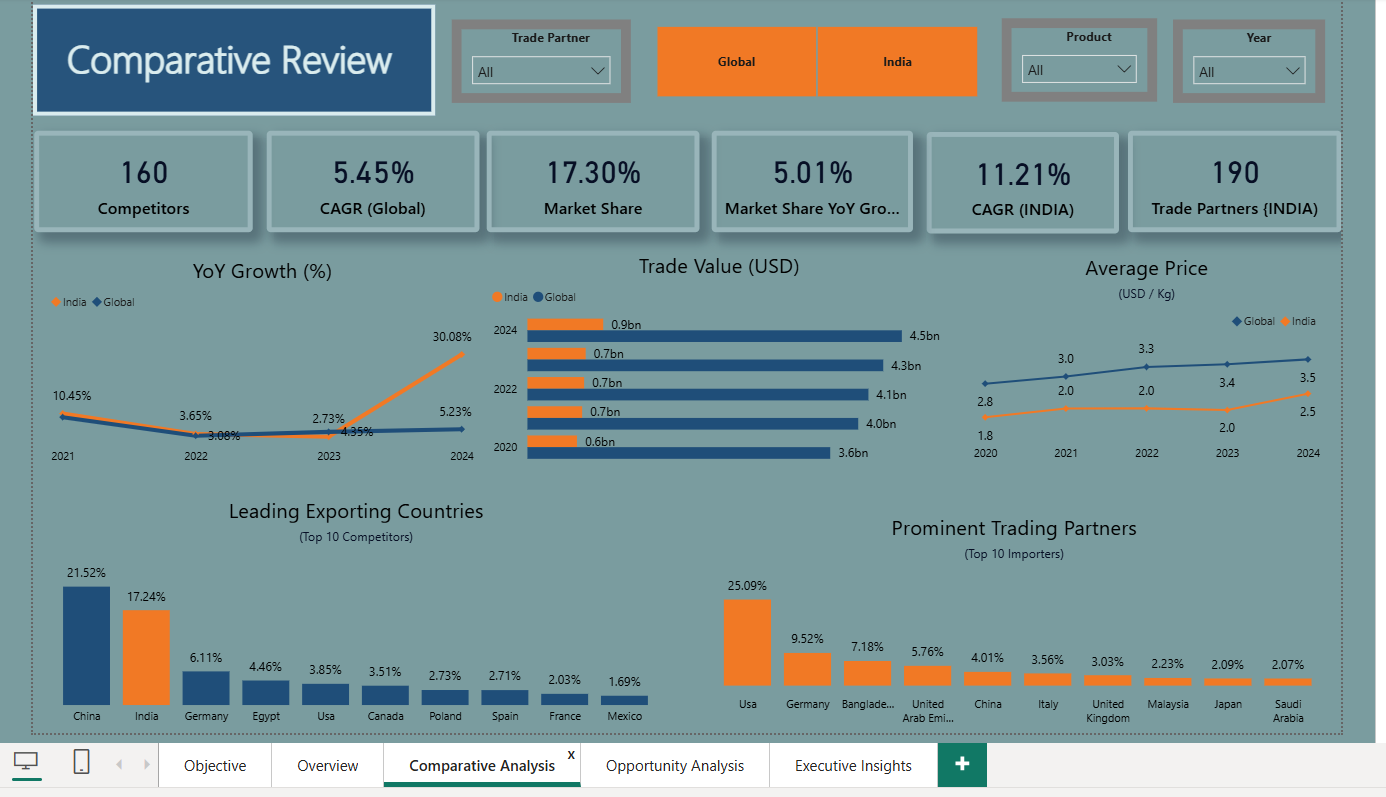

What the dashboard file says about the page in this screenshot:
{"tool":"powerbi","page":{"name":"Comparative Analysis","canvas":[1280,720],"ordinal":2},"visuals":[{"type":"textbox","box":[0,7.3,393.8,108.8],"z":0},{"type":"slicer","title":"Product","fields":{"Values":["Trade_Master_PowerBI.product_name"]},"box":[947.7,20.8,151.6,81.9],"z":1000},{"type":"slicer","title":"Origin","fields":{"Values":["Trade_Master_PowerBI.origin"]},"box":[584.5,22,363.2,81.9],"z":2000},{"type":"slicer","title":"Year","fields":{"Values":["calendar.Year"]},"box":[1115.2,22,149.2,81.9],"z":3000},{"type":"card","title":"Total Global Net Value (Usd)","fields":{"Values":["Count(Trade_Master_PowerBI.reporter_country)"]},"box":[1.2,130.8,214,99],"z":4000},{"type":"card","title":"Total Global Net weight (kg)","fields":{"Values":["DAX - Potential_Market.CAGR_Global"]},"box":[228.7,130.8,207.9,99],"z":5000},{"type":"card","title":"Average Price (Usd/kg)","fields":{"Values":["dax_measures.market_share"]},"box":[443.9,130.8,207.9,99],"z":6000},{"type":"card","title":"Total Indian Net Value (Usd)","fields":{"Values":["DAX - Potential_Market.CAGR_India"]},"box":[874.3,132.1,188.3,99],"z":7000},{"type":"card","title":"Total Indian Net weight (kg)","fields":{"Values":["Count(Trade_Master_PowerBI.partner_country)"]},"box":[1071.2,130.8,209.1,99],"z":8000},{"type":"card","title":"Average Price (Usd/kg)","fields":{"Values":["DAX - Potential_Market.MarSh_YoY Growth (%)"]},"box":[664,130.8,196.9,99],"z":9000},{"type":"columnChart","title":"Leading Exporting Countries","fields":{"Category":["Trade_Master_PowerBI.reporter_country"],"Y":["dax_measures.Contribution %"]},"box":[1.2,487.9,629.8,232.3],"z":10000},{"type":"lineChart","title":"YoY Growth (%) ","fields":{"Category":["calendar.Year"],"Y":["dax_measures.YoY Growth_ind (%)","dax_measures.YoY Growth (%)"]},"box":[12.2,253.1,424.3,212.8],"z":11000},{"type":"clusteredBarChart","title":"Trade Value (USD)","fields":{"Category":["calendar.Year"],"Y":["dax_measures.Indian_tradevalue(usd)","dax_measures.global_tradevalue(usd)"]},"box":[443.9,248.2,454.9,215.2],"z":12000},{"type":"lineChart","title":"Average Price  ","fields":{"Category":["calendar.Year"],"Y":["DAX - Potential_Market.Global_AvgPrice","DAX - Potential_Market.Ind_AvgPrice"]},"box":[914.7,250.7,349.7,212.8],"z":13000},{"type":"columnChart","title":"Prominent Trading Partners","fields":{"Y":["dax_measures.Distribution %"],"Category":["Trade_Master_PowerBI.partner_country"]},"box":[639.5,505,640.8,215.2],"z":14000},{"type":"slicer","title":"Trade Partner","fields":{"Values":["Trade_Master_PowerBI.partner_country"]},"box":[409.6,22,174.9,81.9],"z":15000}]}

Visuals, with their boxes on the page's 1280x720 design canvas (x1, y1, x2, y2). These are canvas units, not pixel positions in the 1386x797 screenshot, which may show the page scaled, cropped or inside an application window:
textbox: l=0, t=7, r=394, b=116
"Product" slicer: l=948, t=21, r=1099, b=103
"Origin" slicer: l=584, t=22, r=948, b=104
"Year" slicer: l=1115, t=22, r=1264, b=104
"Total Global Net Value (Usd)" card: l=1, t=131, r=215, b=230
"Total Global Net weight (kg)" card: l=229, t=131, r=437, b=230
"Average Price (Usd/kg)" card: l=444, t=131, r=652, b=230
"Total Indian Net Value (Usd)" card: l=874, t=132, r=1063, b=231
"Total Indian Net weight (kg)" card: l=1071, t=131, r=1280, b=230
"Average Price (Usd/kg)" card: l=664, t=131, r=861, b=230
"Leading Exporting Countries" columnChart: l=1, t=488, r=631, b=720
"YoY Growth (%) " lineChart: l=12, t=253, r=436, b=466
"Trade Value (USD)" clusteredBarChart: l=444, t=248, r=899, b=463
"Average Price  " lineChart: l=915, t=251, r=1264, b=464
"Prominent Trading Partners" columnChart: l=640, t=505, r=1280, b=720
"Trade Partner" slicer: l=410, t=22, r=584, b=104
